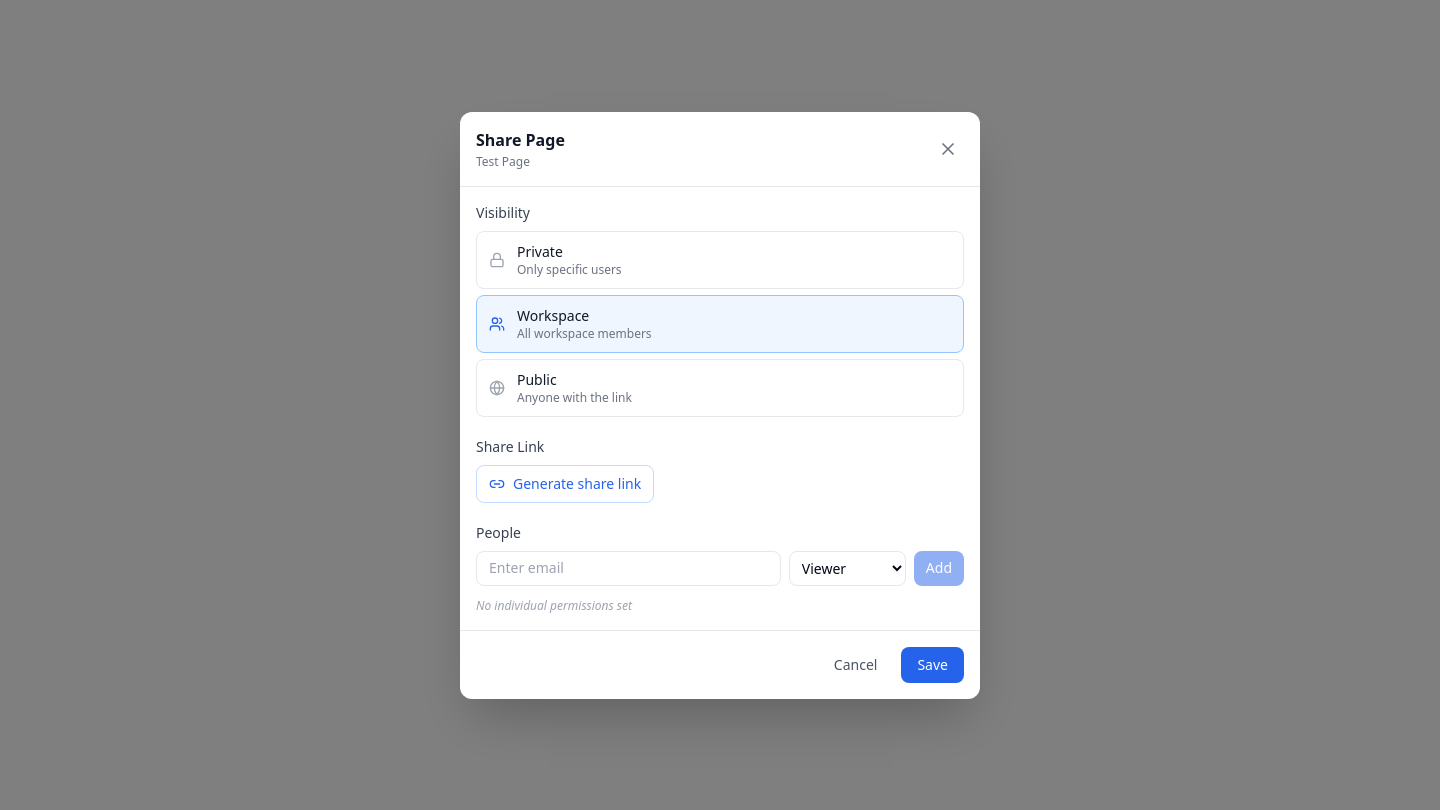
Scenario: ShareModal › adds user to permissions list
Type "user@test.com" into the field with placeholder "Enter email" at [628, 568], box [476, 550, 781, 586]
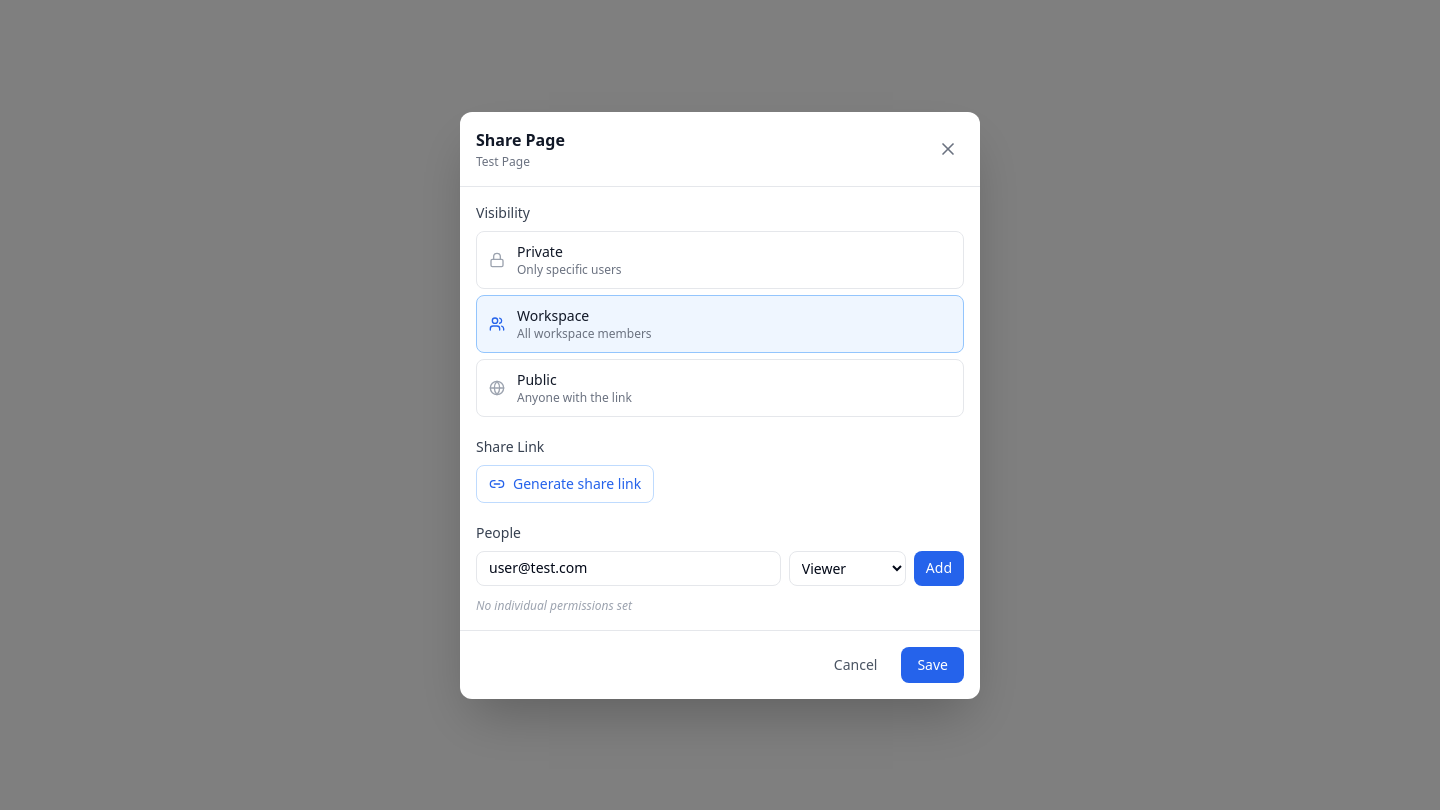
Click the button "Add" at [939, 568], box [914, 550, 964, 586]
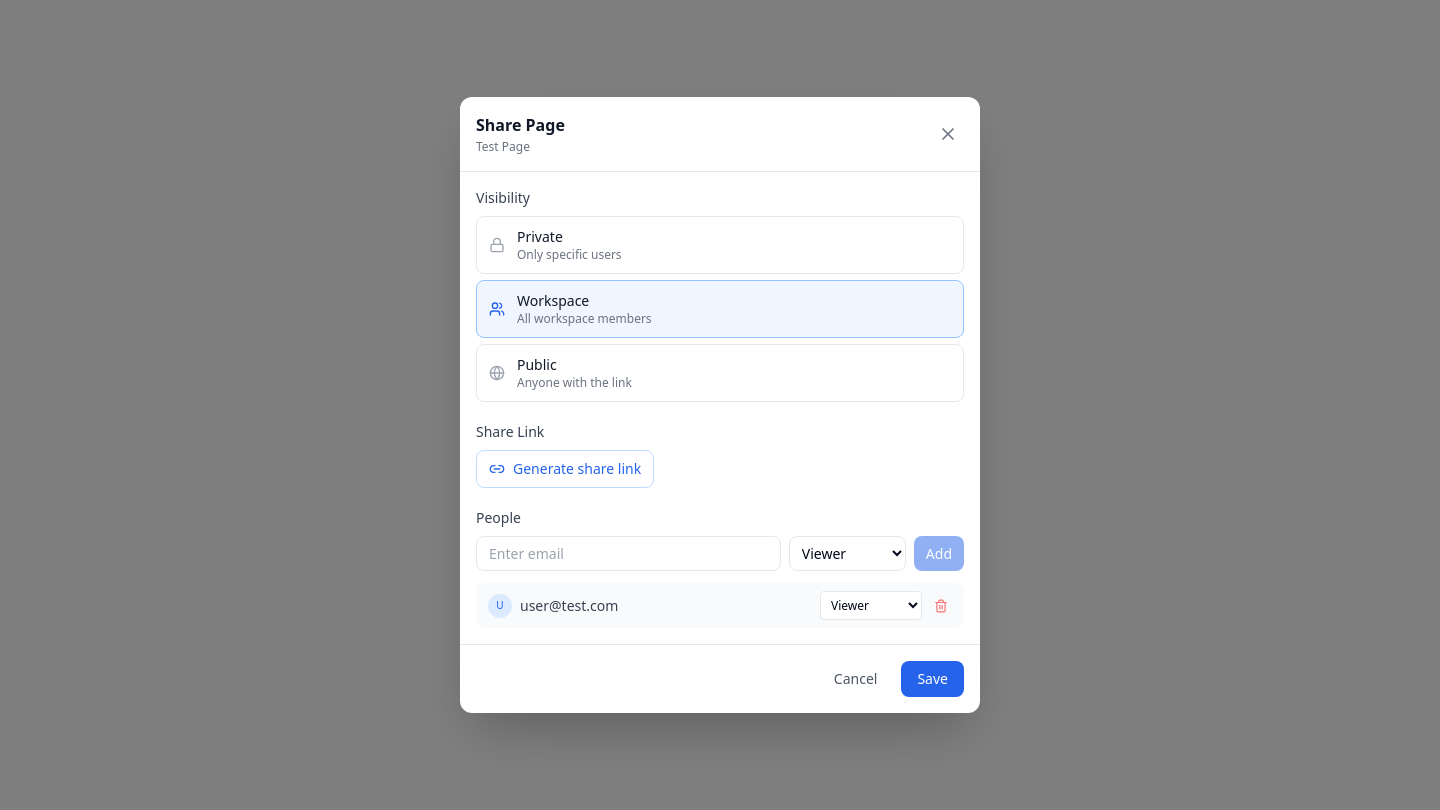
Check: the text "user@test.com" is shown, box [520, 596, 618, 614]
